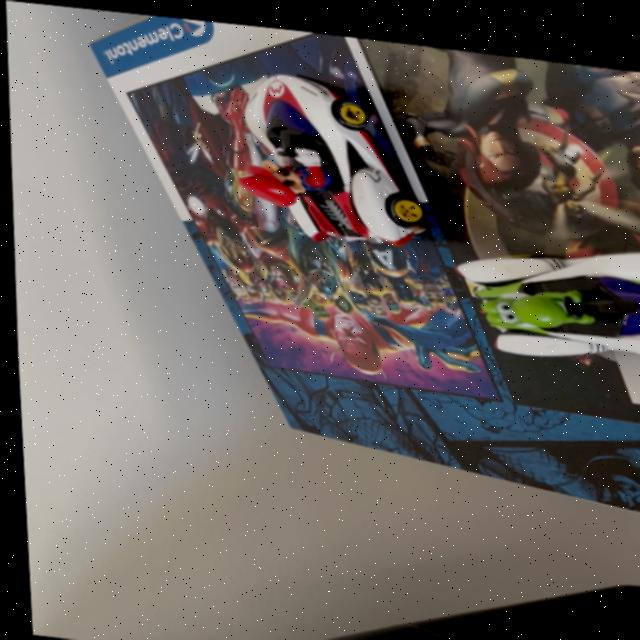mario: (215, 50, 441, 253)
yoshi: (443, 215, 640, 361)
